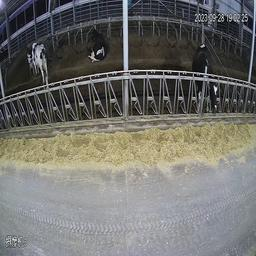cow: (192, 44, 220, 113), (26, 43, 49, 85), (84, 27, 109, 64)
